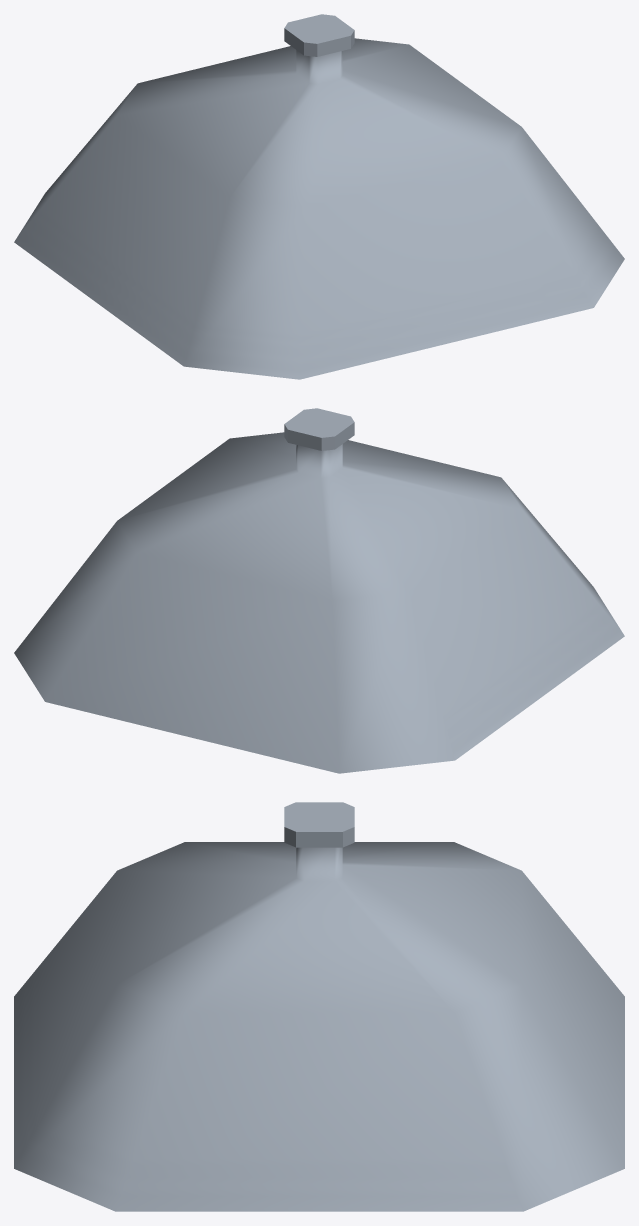
Rendered from BasicCover3.fbx.
3 views of the same model, one above another, from view 1: azimuth 30°, elevation 25°; view 2: azimuth 150°, elevation 25°; view 3: azimuth 270°, elevation 25° (orthographic). The views are drawn at different scales.
Visible parts, largest first — view 1: pCube5; view 2: pCube5; view 3: pCube5.
Boxes of the visible parts, box(x1,y1,x2,y2) form: pCube5: box(14, 14, 624, 379); pCube5: box(14, 408, 624, 773); pCube5: box(14, 802, 624, 1211).
Size of the model in its own units: 40.64 by 19.5 by 40.64.
Materials: 1 (1 with a texture image).
